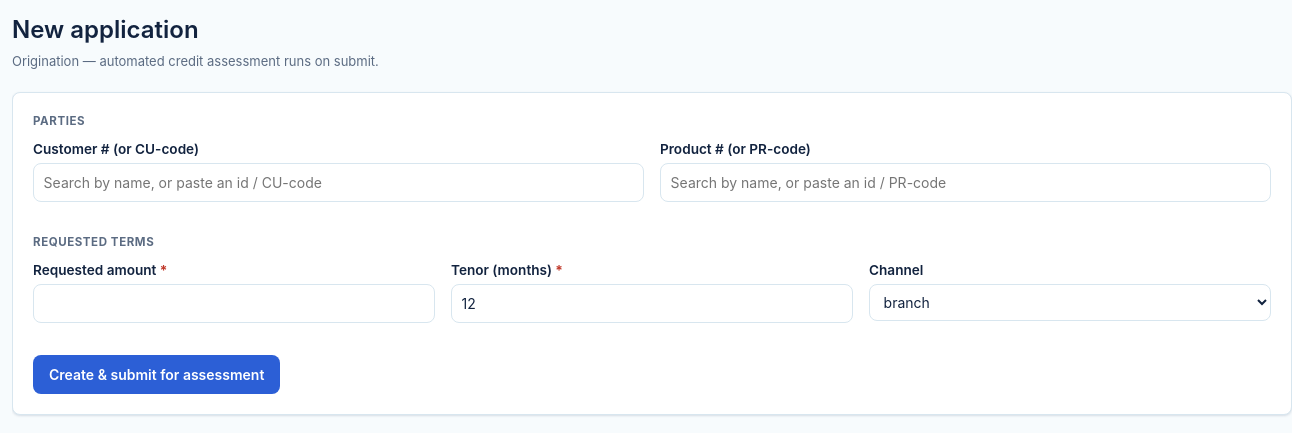
Test case: Part D — search-as-you-type dropdowns › accepts a typed search selection
The image size is (1292, 433).
In the field with test id "search-select-customer-input": [338, 182] box [33, 163, 644, 202], type "Ada"
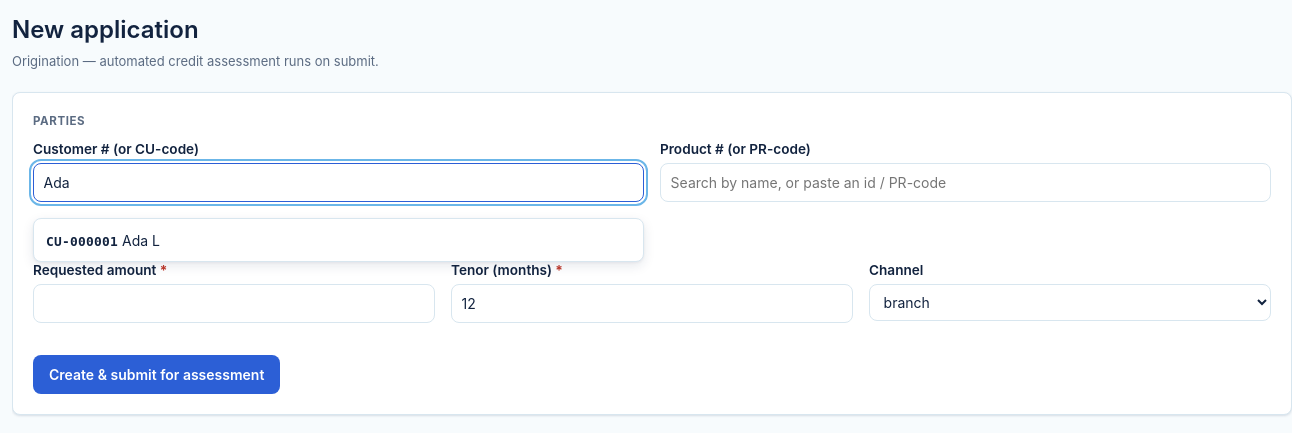
Click the button "CU-000001 Ada L": [82, 241] box [38, 223, 639, 257]
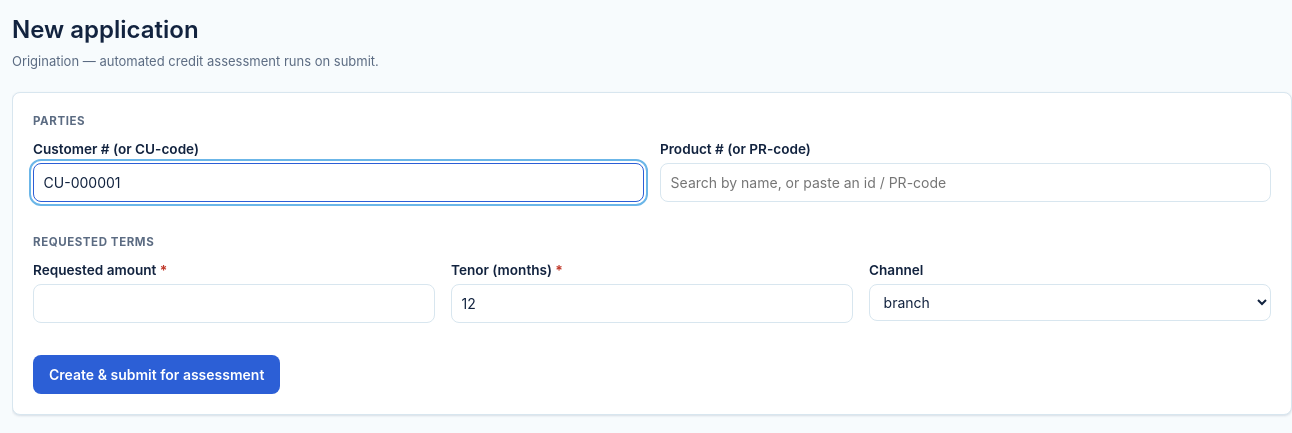
Expected: the field with test id "search-select-customer-input" holds "CU-000001", [33, 163, 644, 202]
